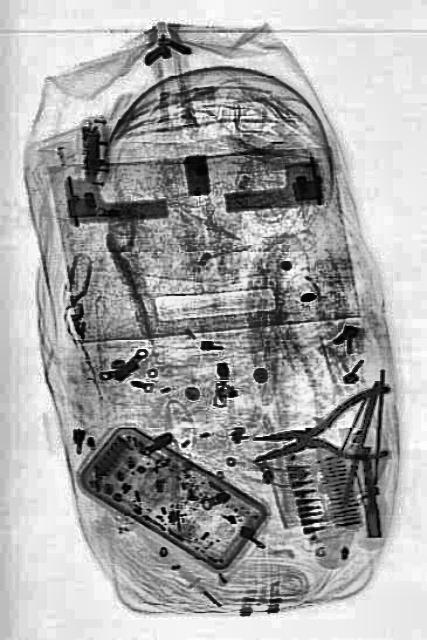Pliers: (248, 382, 396, 484)
